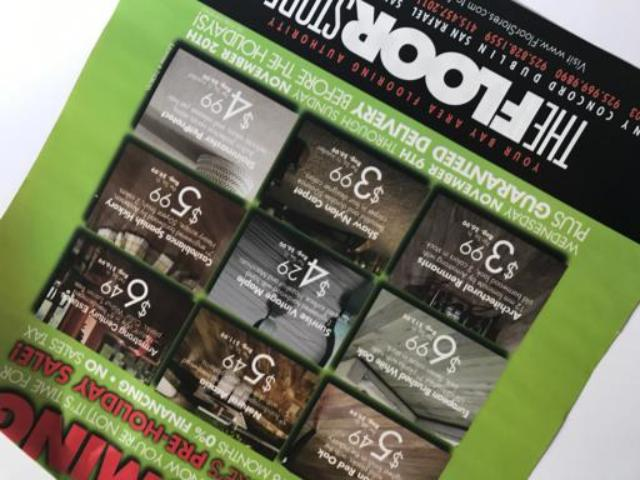cardboard paper: (0, 0, 640, 480), (0, 434, 49, 476)
